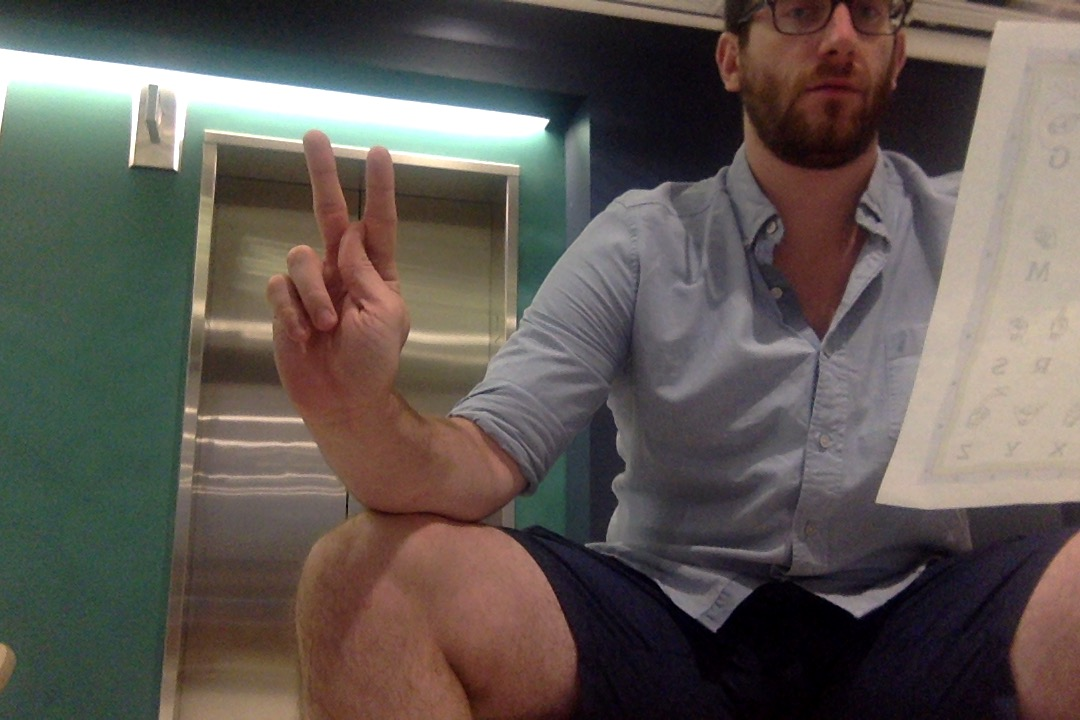k: (266, 128, 413, 418)
